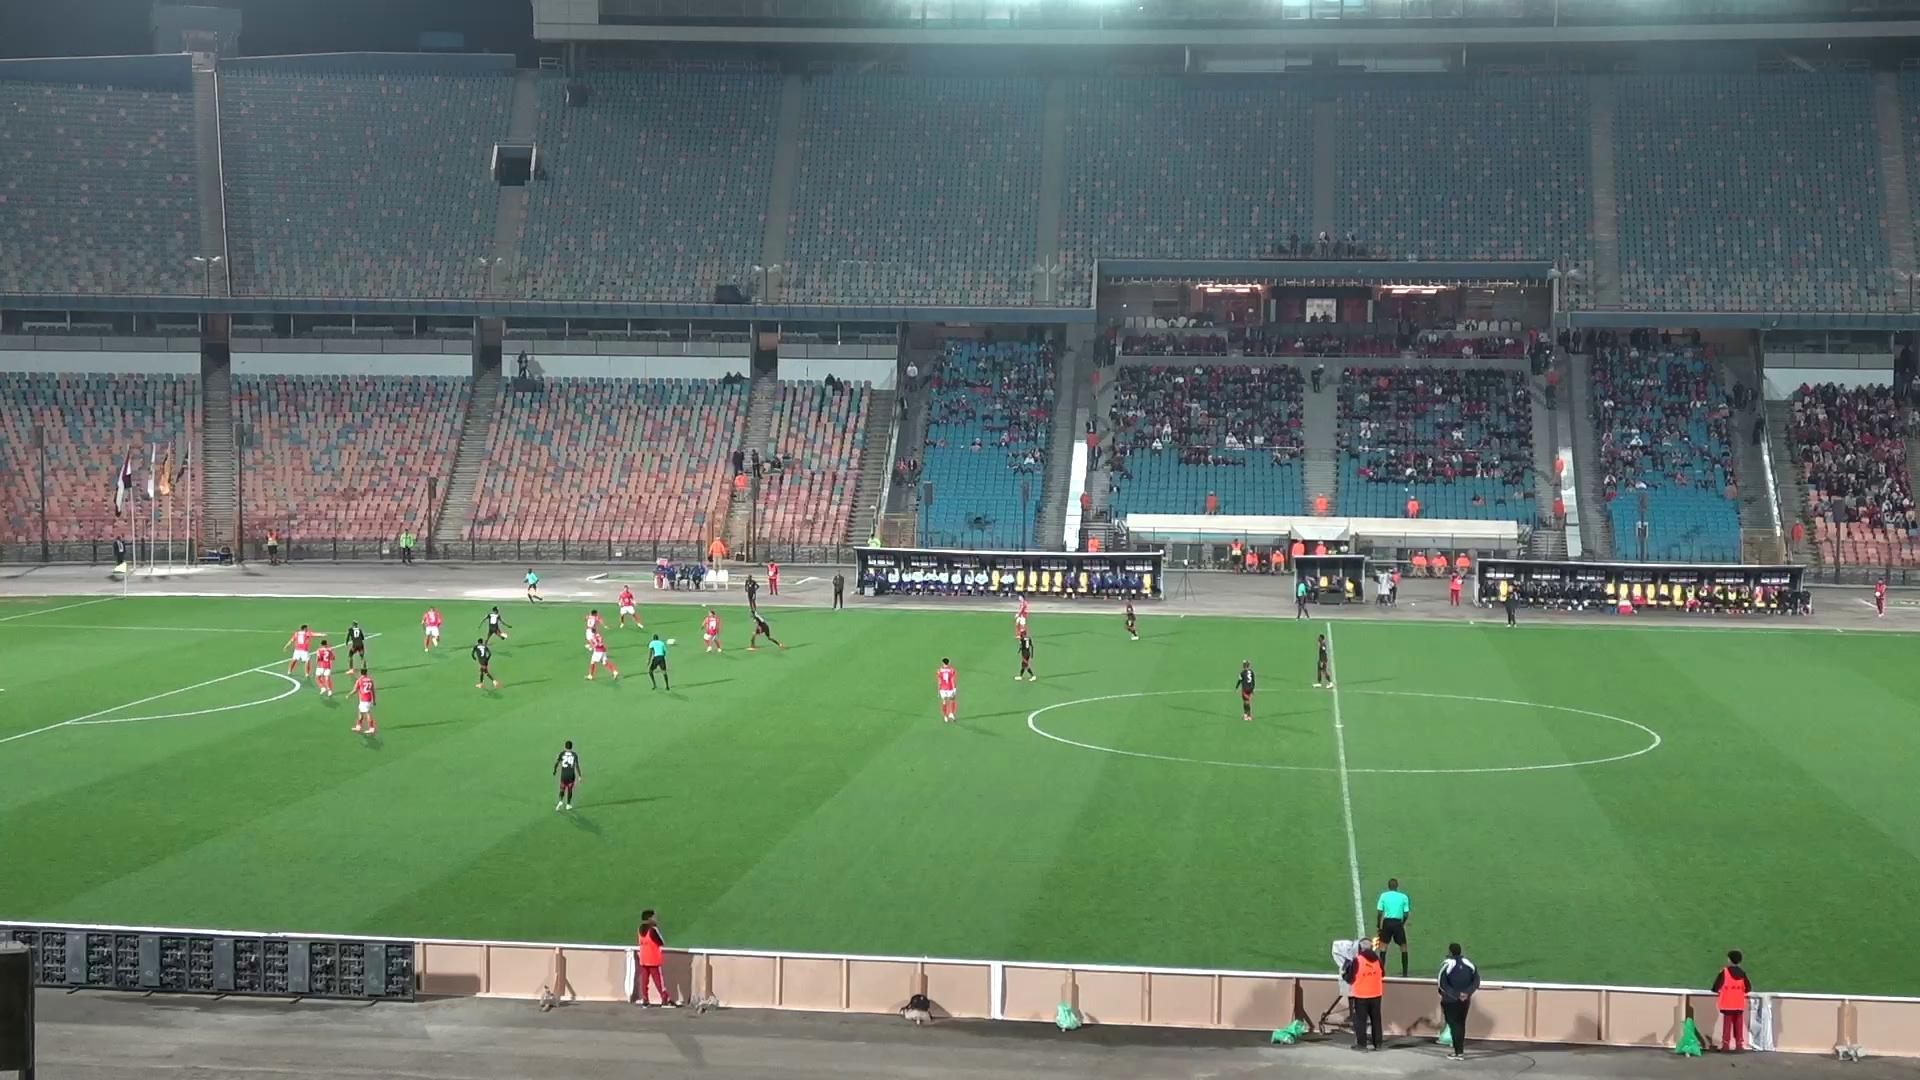Ball: (654, 634, 680, 651)
Refree: (1374, 878, 1414, 967), (645, 633, 673, 690), (1295, 574, 1317, 618), (524, 568, 541, 601)
Team1: (284, 624, 330, 673), (584, 629, 622, 680), (352, 669, 377, 736), (934, 658, 957, 723), (311, 638, 335, 700), (419, 605, 446, 651), (617, 584, 644, 626), (702, 607, 723, 651), (584, 609, 604, 651), (1014, 592, 1030, 641)
Team2: (551, 740, 582, 811), (745, 604, 786, 651), (340, 621, 380, 665), (469, 640, 502, 688), (1232, 661, 1257, 723), (1311, 633, 1336, 687), (1013, 630, 1036, 680), (476, 607, 512, 640), (1120, 603, 1139, 640), (323, 634, 335, 647)
